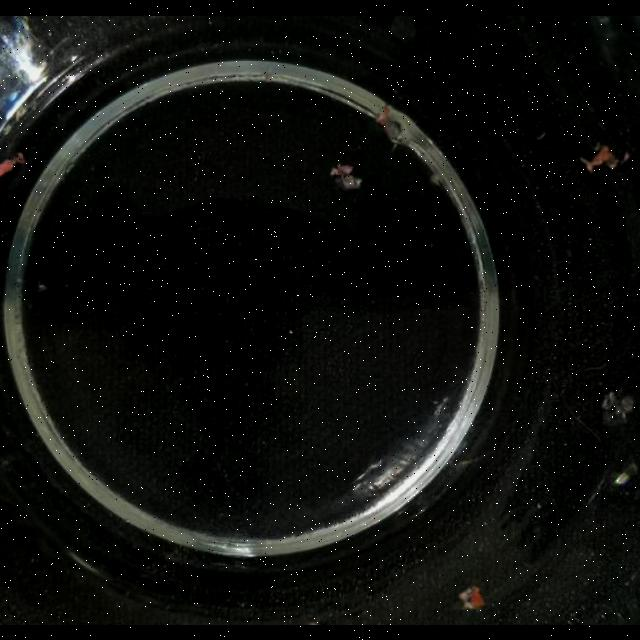Fragment: (380, 102, 418, 154), (578, 143, 626, 173), (598, 390, 632, 430), (458, 579, 488, 615), (331, 163, 362, 191), (0, 150, 28, 181)
microbeads: (36, 282, 48, 290)
